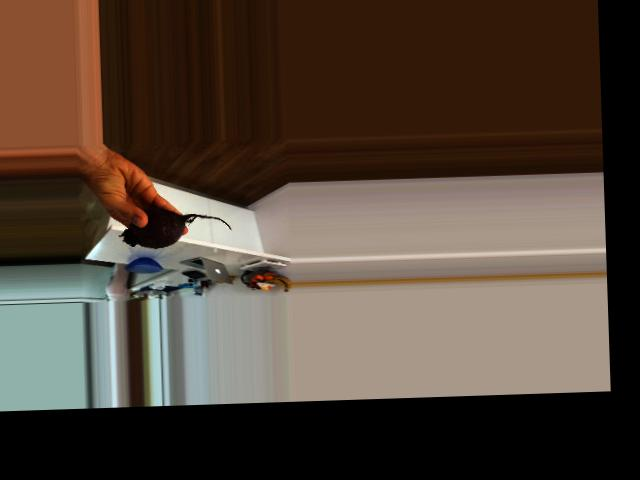beet: (119, 206, 232, 249)
